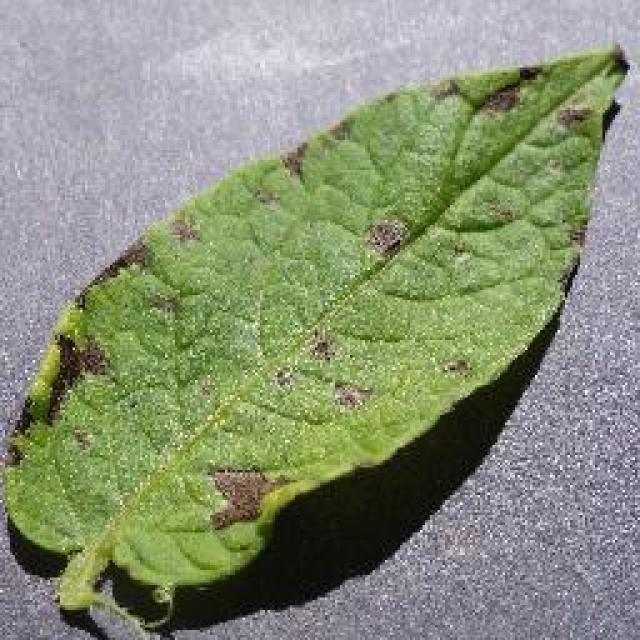early_blight: (0, 37, 632, 637)
